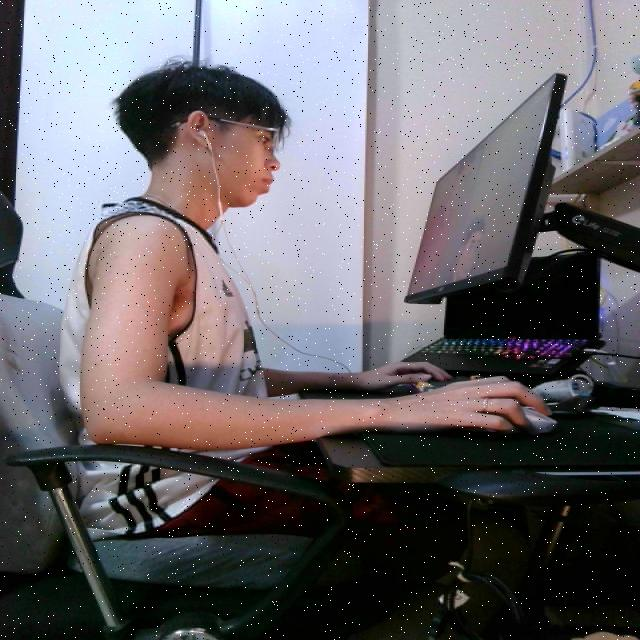Good: (42, 52, 390, 547)
